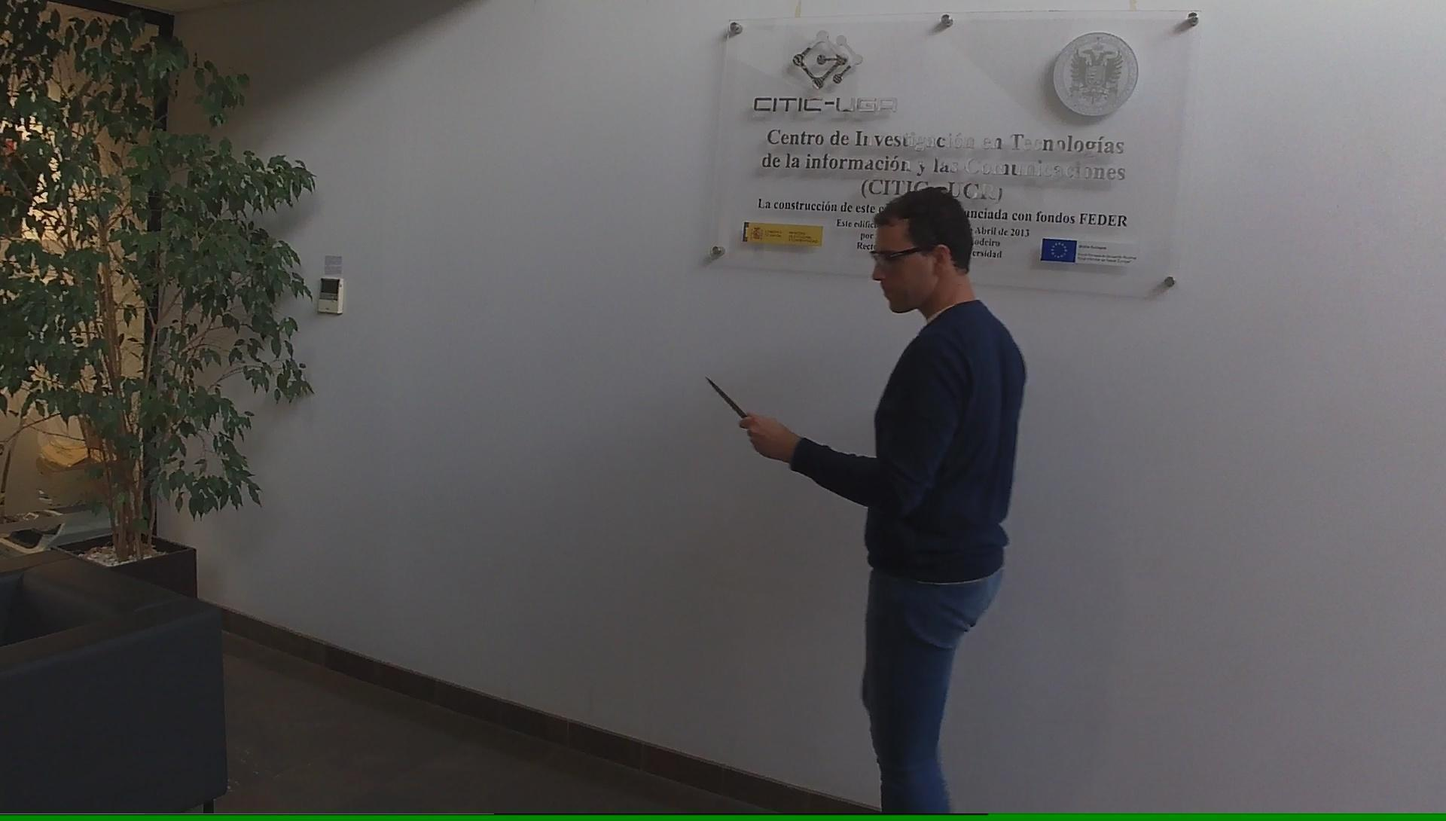Knife: (696, 366, 766, 438)
